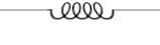inductor: (40, 0, 118, 24)
